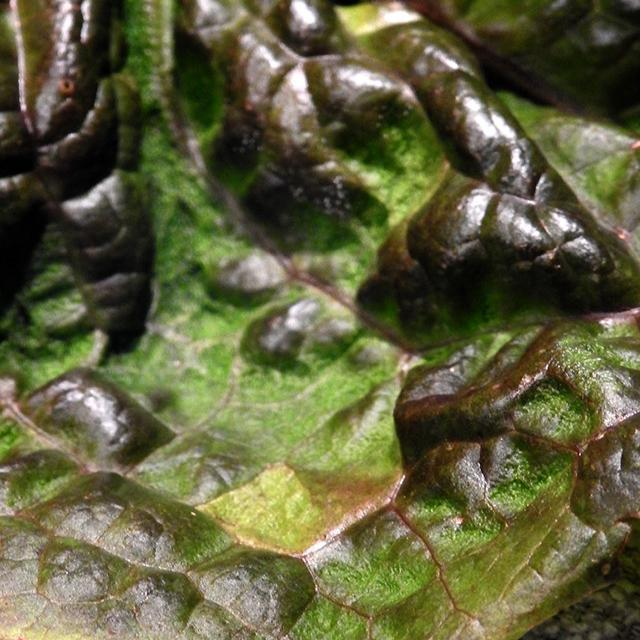Downy_mildew_on_lettuce: (203, 26, 624, 332)
